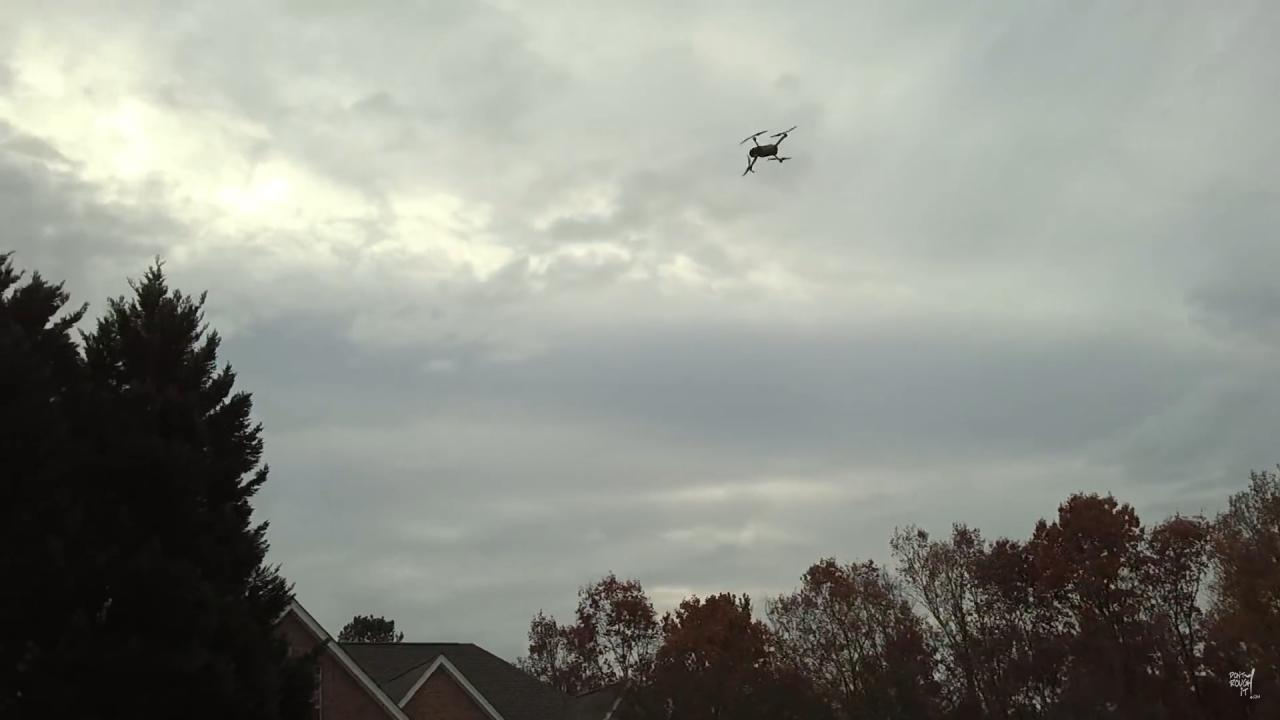Drone: (730, 122, 800, 187)
